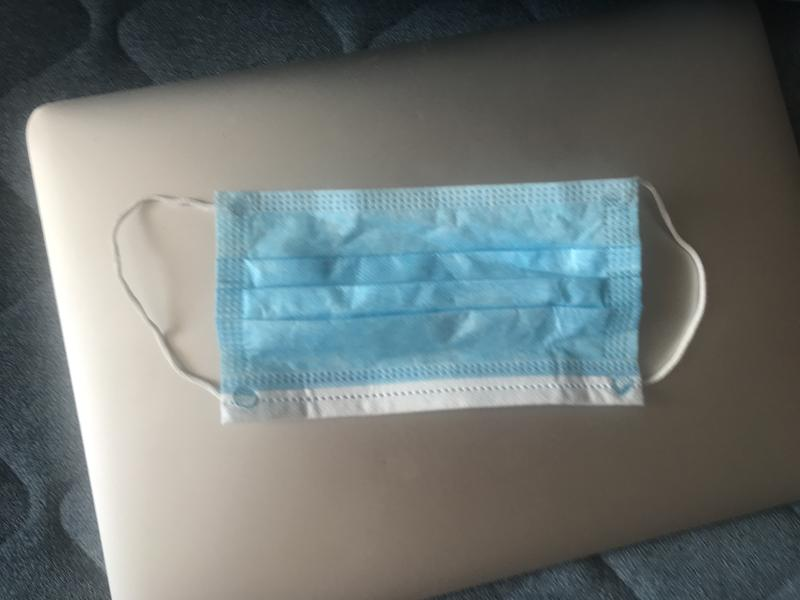medical_mask: (110, 176, 707, 424)
